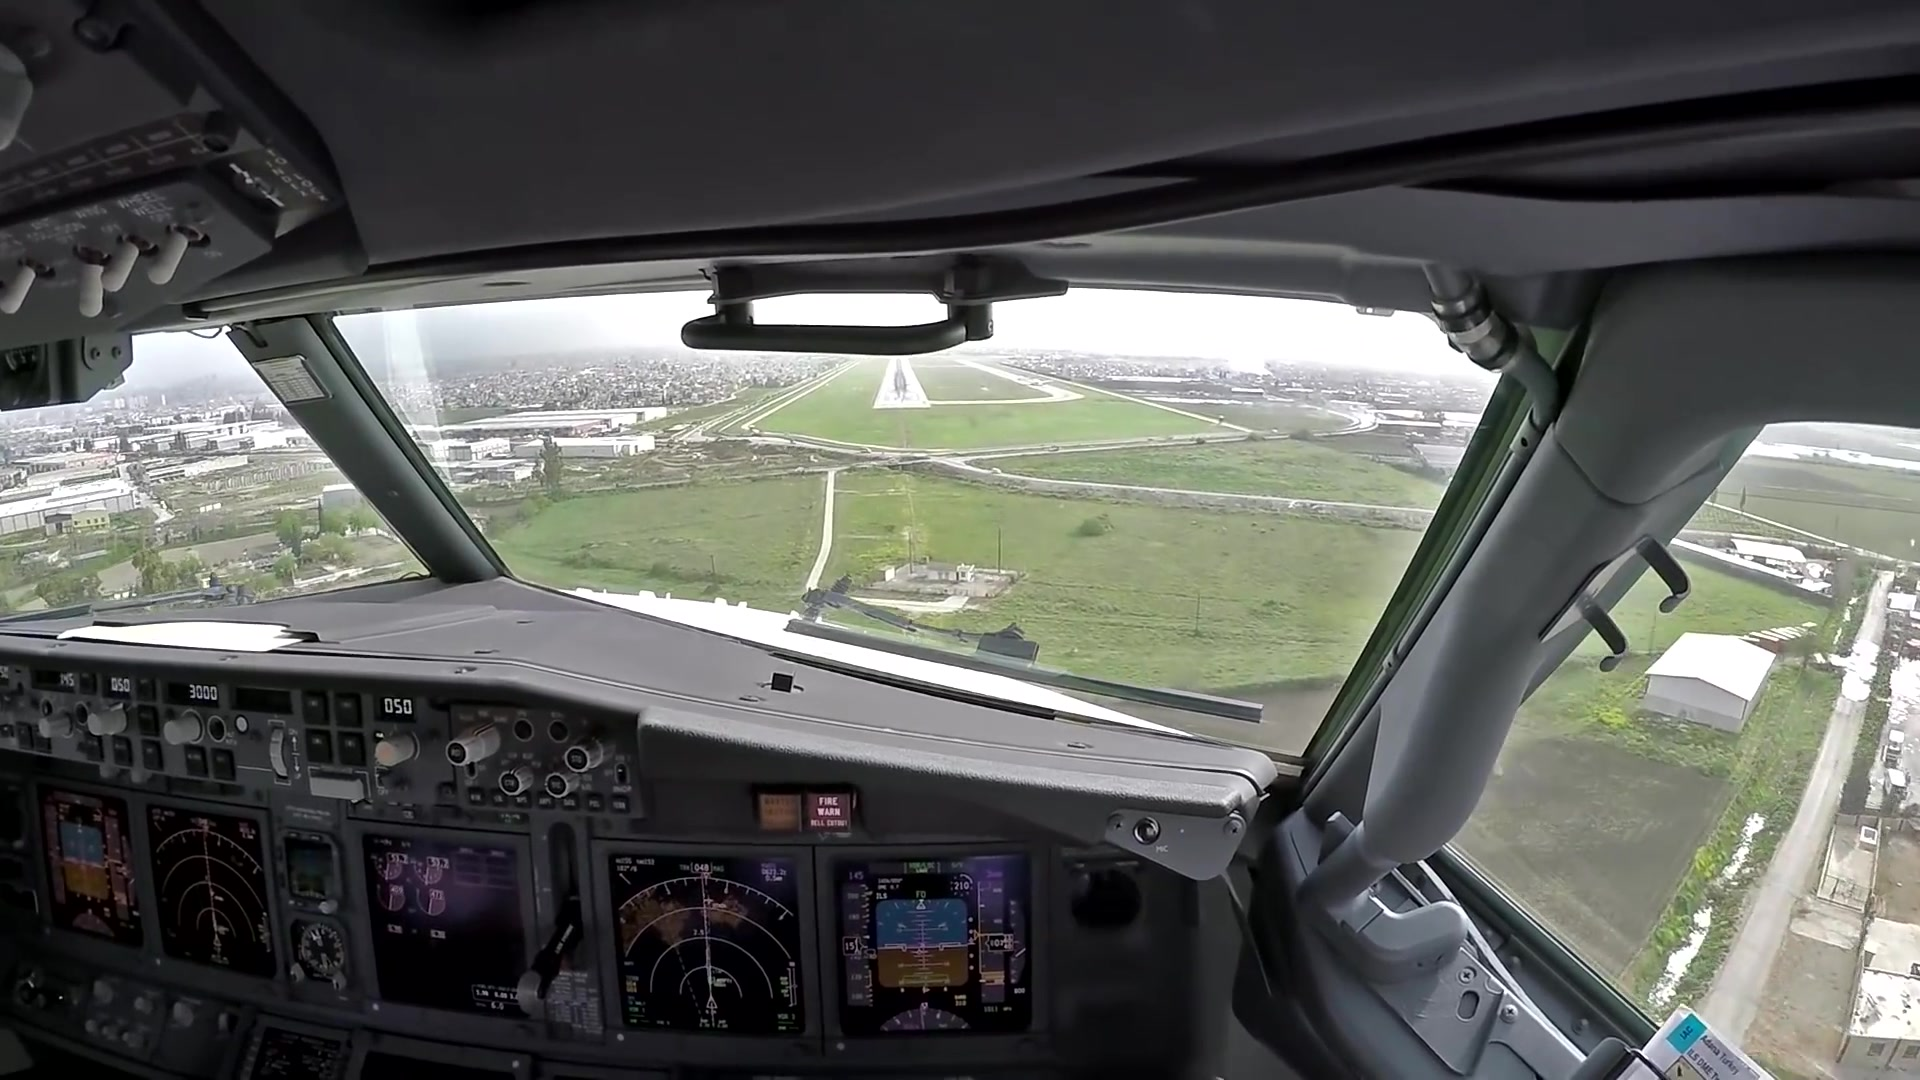runway: (872, 357, 931, 409)
